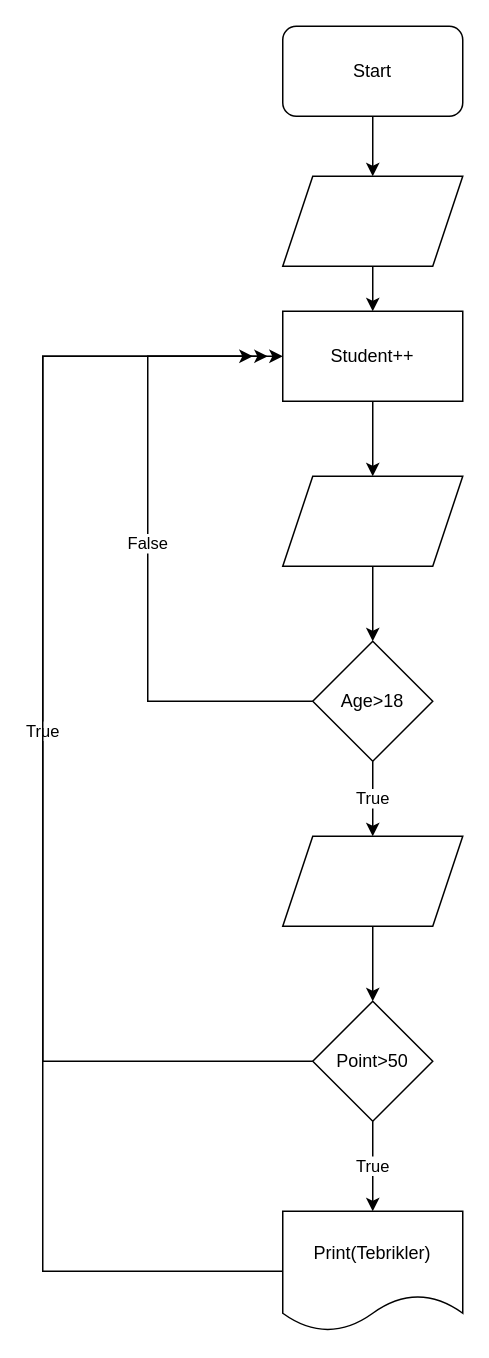
This 489x1358 diagram has some shape labels left out. The shapes that lost their labels are listed below. From the top down, each one's centre as x and y in pixels, then its label:
At point (372, 220): "Student".
At point (372, 520): "Age".
At point (372, 880): "Point".
